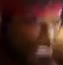ryu: (11, 0, 56, 63)
